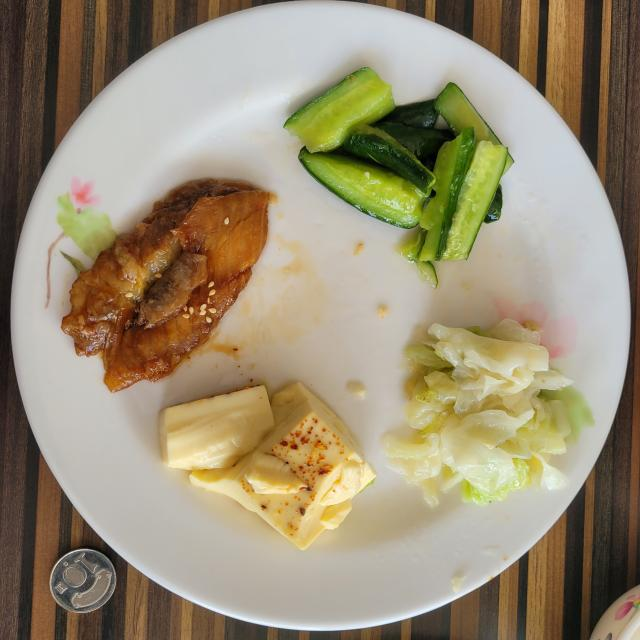Kabayaki sea bream fillet: (61, 179, 270, 391)
cabbage: (384, 320, 592, 505)
coin: (50, 549, 116, 614)
cucumber: (285, 69, 512, 264)
